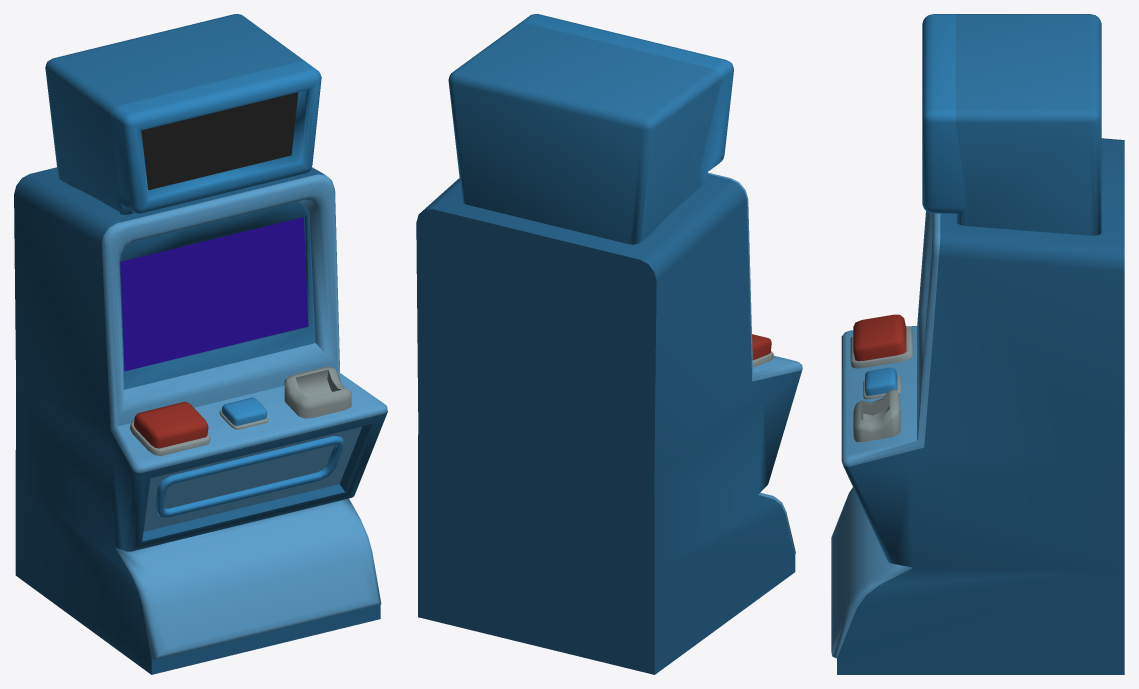
Rendered from Game-Machine.fbx.
3 views of the same model, side by side, from view 1: azimuth 30°, elevation 25°; view 2: azimuth 150°, elevation 25°; view 3: azimuth 270°, elevation 25° (orthographic). The views are drawn at different scales.
Parts seen in each view (by area): view 1: Game-Machine; view 2: Game-Machine; view 3: Game-Machine.
Boxes of the visible parts, x1,y1,x2,y2 form: Game-Machine: (14,14,387,674); Game-Machine: (416,14,802,674); Game-Machine: (831,14,1124,674).
Bounding box in the file's own units: 1.17 × 2.29 × 1.1.
